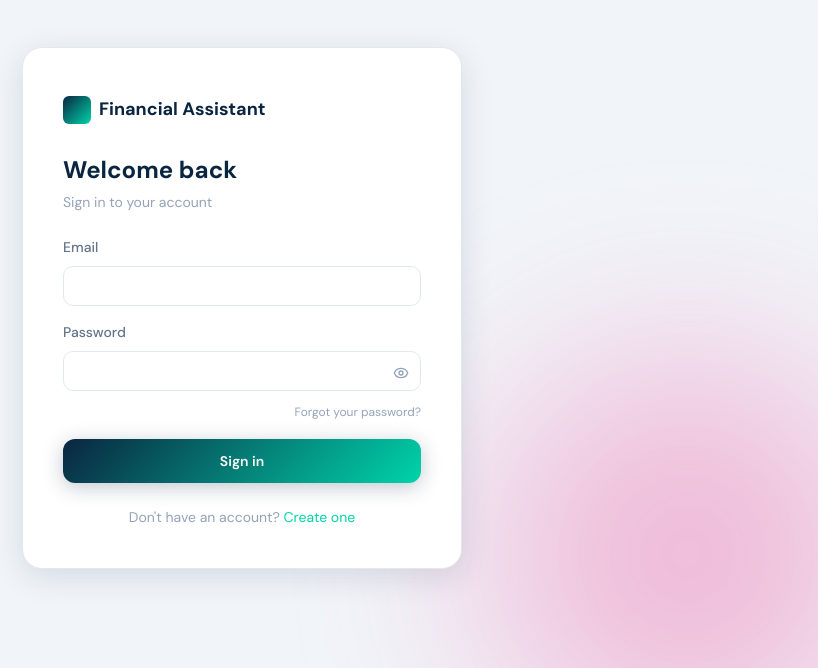
Scenario: LoginPage › displays error message on login failure
The image size is (818, 668).
Type "bad@example.com" into the field labelled "Email" at (242, 286), box [63,266,421,306]
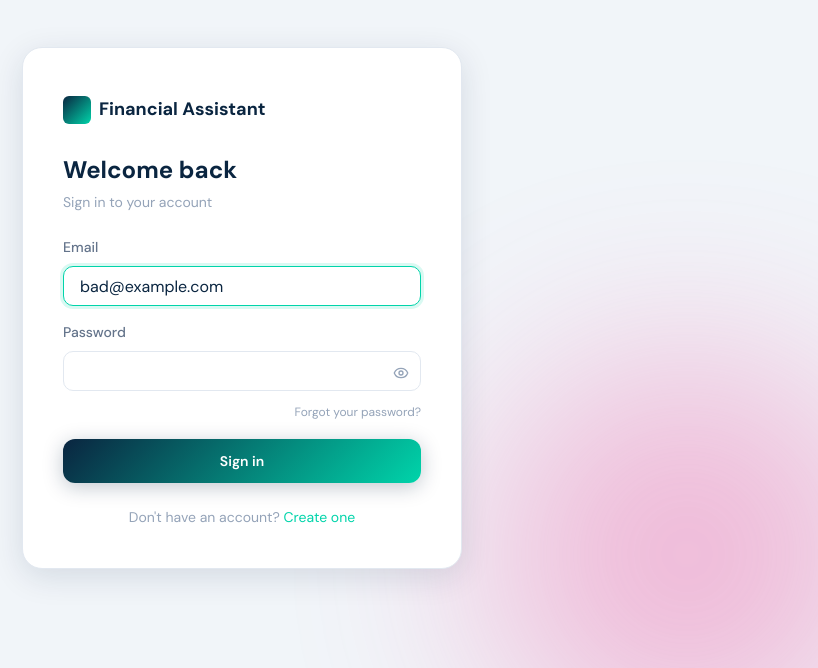
Type "wrongpassword" into the password field labelled "Password" at (242, 371), box [63,351,421,391]
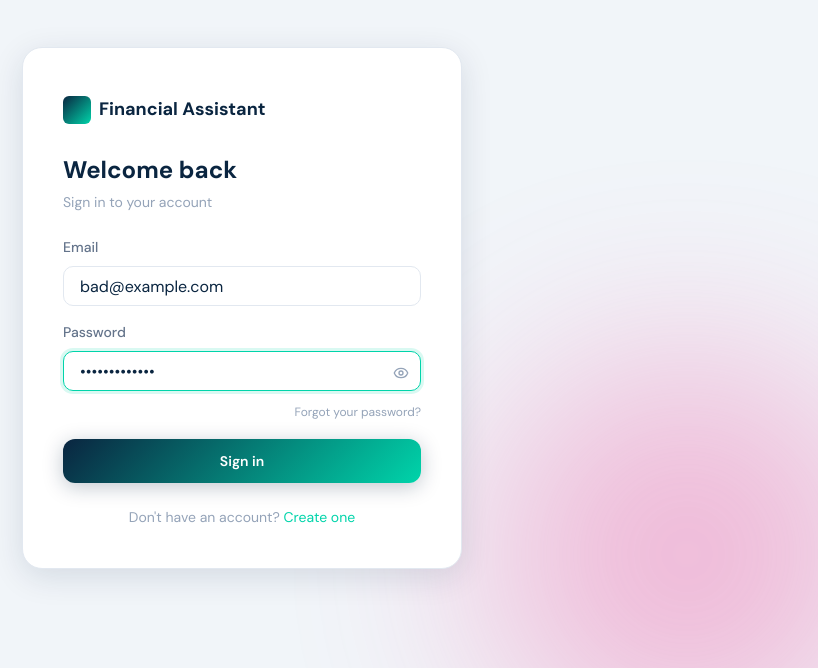
Click the button "Sign in" at (242, 461), box [63,439,421,483]
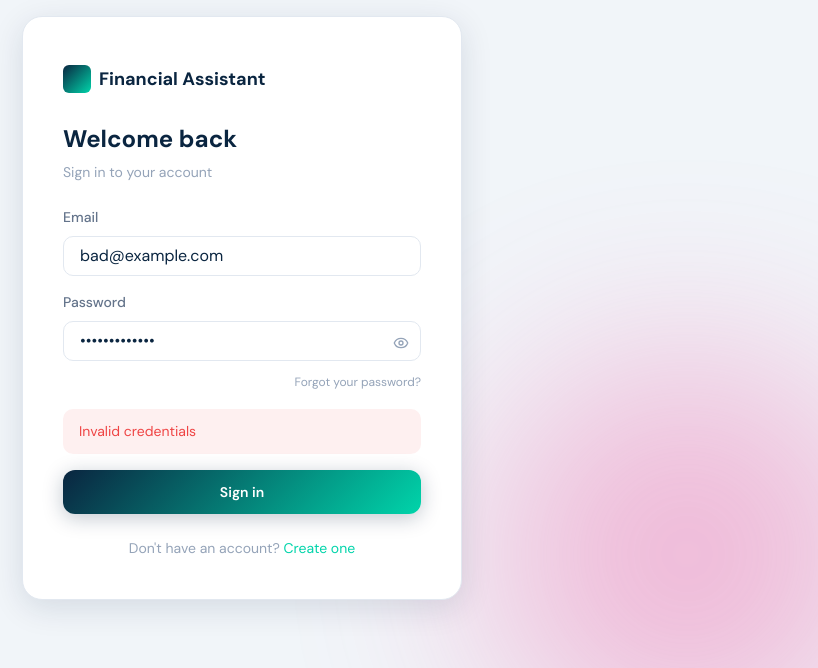
Now the message reads "Invalid credentials", box [79,422,196,440]
